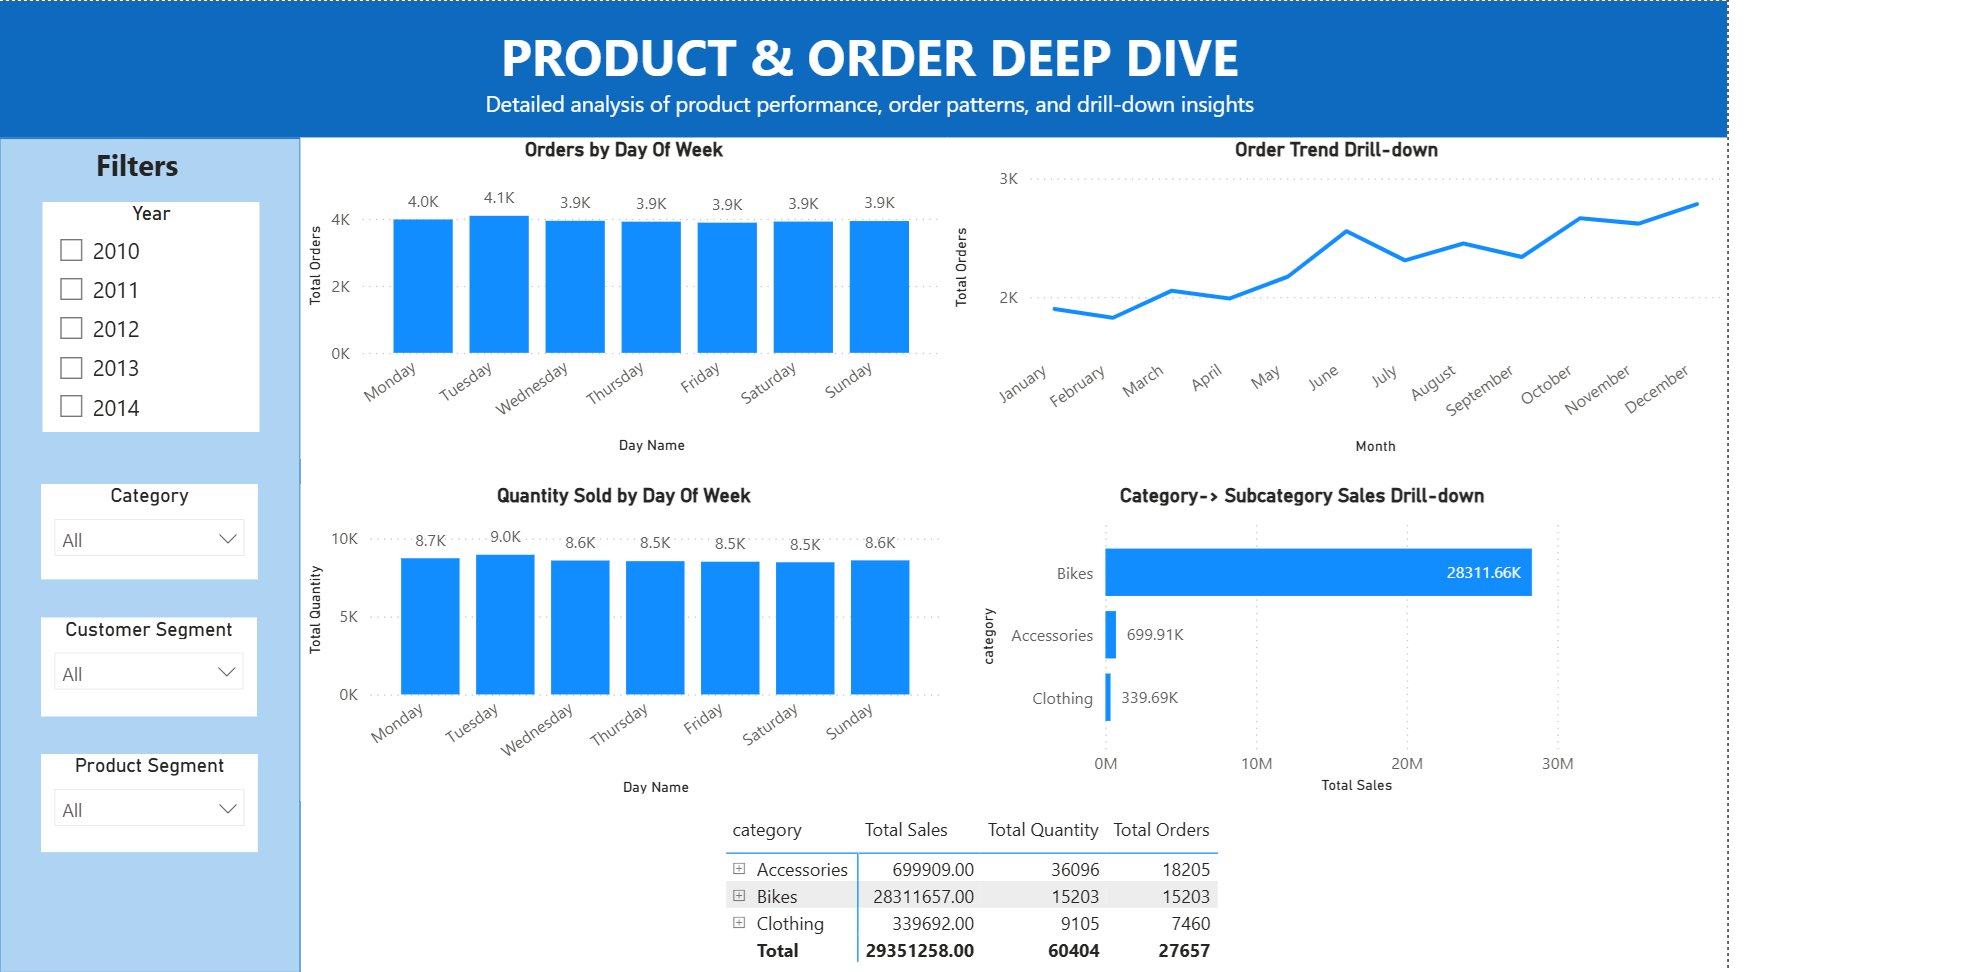

The dashboard page shown, as its layout file describes it:
{"tool":"powerbi","page":{"name":"Product & Order Deep Dive","canvas":[1280,720],"ordinal":2},"visuals":[{"type":"shape","box":[0,0,1280,101.2],"z":0},{"type":"textbox","box":[10,10,1270,81.2],"z":1000},{"type":"shape","box":[0,100.9,223.6,619.1],"z":2000},{"type":"textbox","box":[66.2,101.2,71.2,42.5],"z":3000},{"type":"slicer","title":"Year","fields":{"Values":["Date Table.Year"]},"box":[31.8,149.1,160.9,170],"z":4000},{"type":"slicer","title":"Category","fields":{"Values":["product_report.category"]},"box":[31.1,358.2,160.9,70.9],"z":5000},{"type":"slicer","title":"Customer Segment","fields":{"Values":["customer_report.customer_segment"]},"box":[31.6,456.7,160,73.6],"z":6000},{"type":"slicer","title":"Product Segment","fields":{"Values":["product_report.product_segment"]},"box":[31.1,557.9,160.9,72.7],"z":7000},{"type":"clusteredColumnChart","title":"Orders by Day Of Week","fields":{"Category":["Date Table.Day Name"],"Y":["_Measures.Total Orders"]},"box":[223.6,100.9,479.1,238.2],"z":8000},{"type":"clusteredColumnChart","title":"Quantity Sold by Day Of Week","fields":{"Category":["Date Table.Day Name"],"Y":["_Measures.Total Quantity"]},"box":[223.6,358.2,479.1,234.5],"z":9000},{"type":"clusteredBarChart","title":"Category-> Subcategory Sales Drill-down","fields":{"Category":["product_report.category","product_report.subcategory"],"Y":["_Measures.Total Sales"]},"box":[721.8,358.2,486.4,233.6],"z":10000},{"type":"lineChart","title":"Order Trend Drill-down","fields":{"Category":["Date Table.Year","Date Table.Month","Date Table.Week Number"],"Y":["_Measures.Total Orders"]},"box":[702.5,101.2,577.5,238.8],"z":11000},{"type":"pivotTable","fields":{"Rows":["product_report.category","product_report.subcategory","product_report.product_name"],"Values":["_Measures.Total Sales","_Measures.Total Quantity","_Measures.Total Orders"]},"box":[533.6,598.2,457.3,121.8],"z":12000}]}

Visuals, with their boxes on the page's 1280x720 design canvas (x1, y1, x2, y2). These are canvas units, not pixel positions in the 1962x972 screenshot, which may show the page scaled, cropped or inside an application window:
shape: 0/0/1280/101
textbox: 10/10/1280/91
shape: 0/101/224/720
textbox: 66/101/137/144
"Year" slicer: 32/149/193/319
"Category" slicer: 31/358/192/429
"Customer Segment" slicer: 32/457/192/530
"Product Segment" slicer: 31/558/192/631
"Orders by Day Of Week" clusteredColumnChart: 224/101/703/339
"Quantity Sold by Day Of Week" clusteredColumnChart: 224/358/703/593
"Category-> Subcategory Sales Drill-down" clusteredBarChart: 722/358/1208/592
"Order Trend Drill-down" lineChart: 702/101/1280/340
pivotTable - product_report.category x product_report.subcategory: 534/598/991/720
